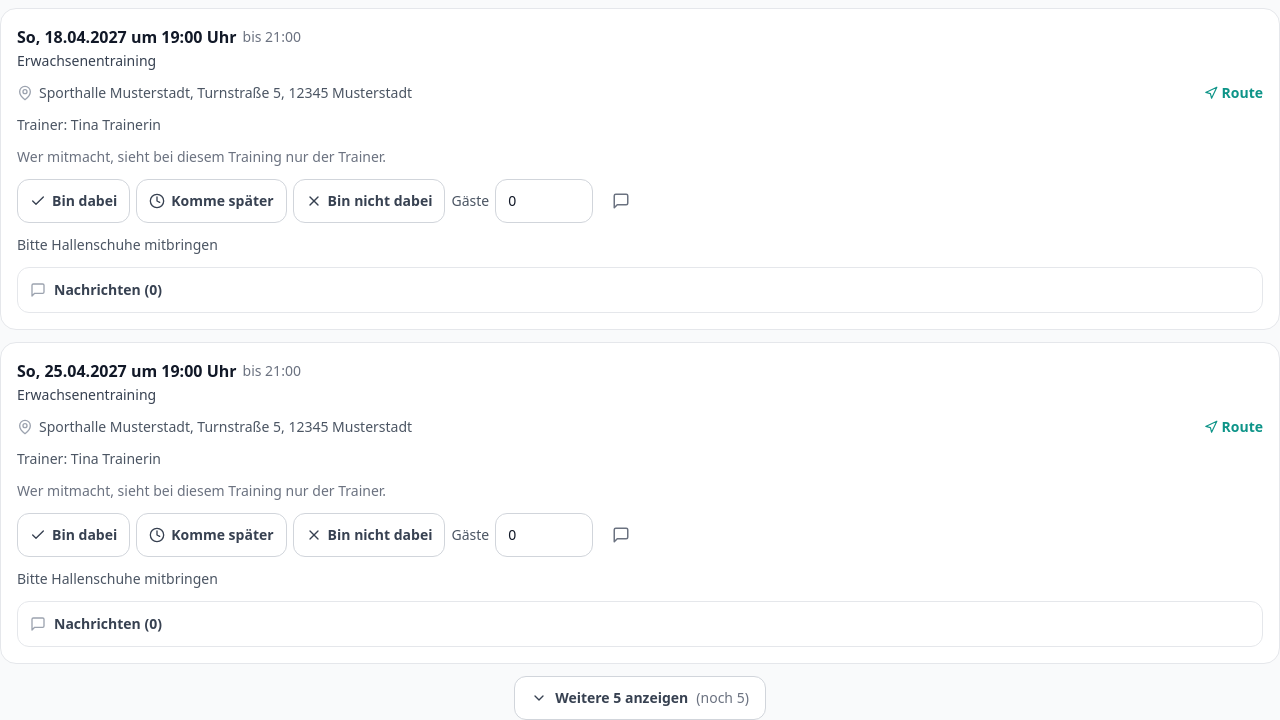
it: SessionsTab › blättert in Seiten zu 30 Terminen
(page scrolled)
Click the button "Weitere 5 anzeigen (noch 5)" at (640, 698), box [514,676,766,719]
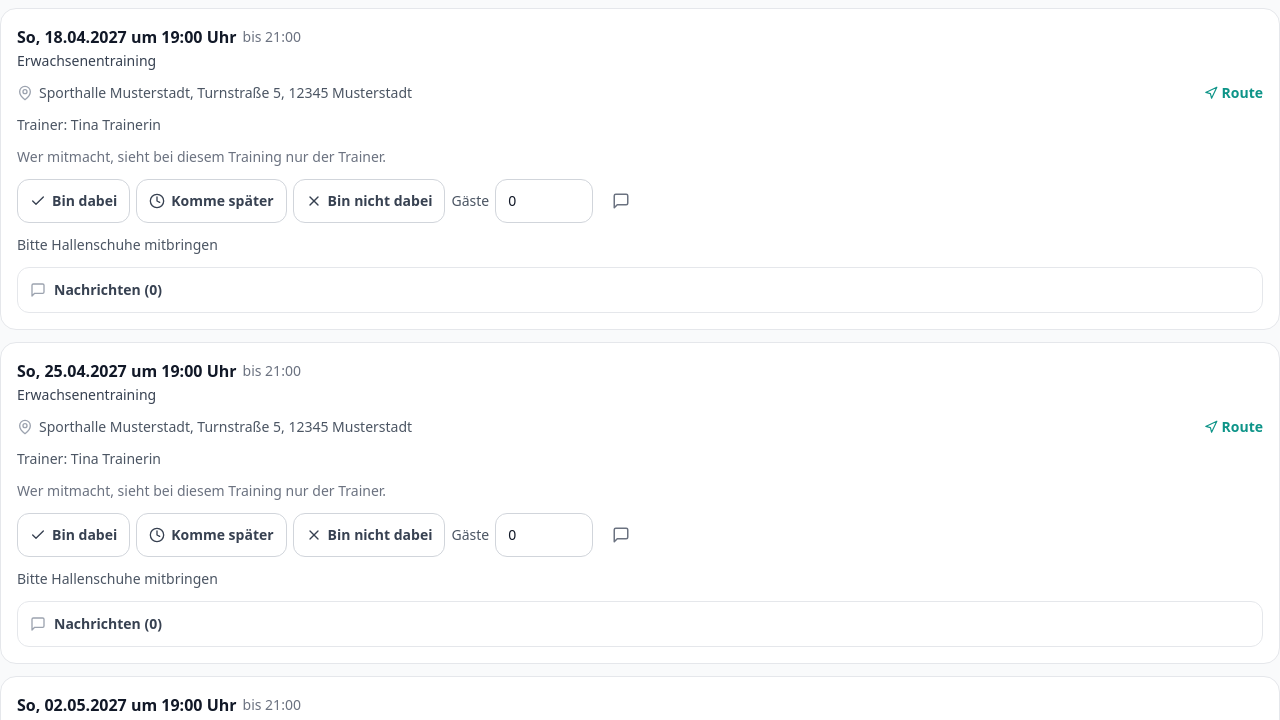
Result: the button "Weitere 5 anzeigen (noch 5)" is gone
